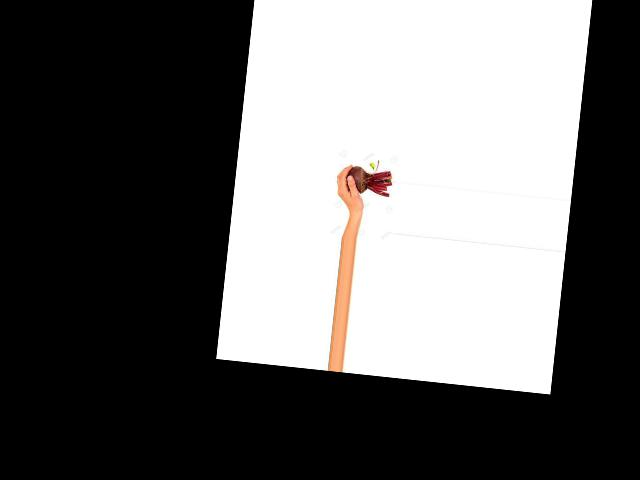beet: (344, 156, 394, 196)
